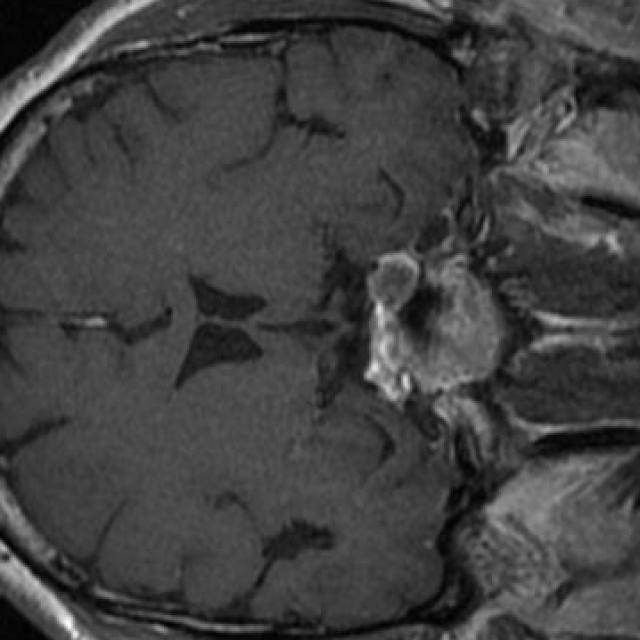pituitary: (371, 250, 421, 314)
